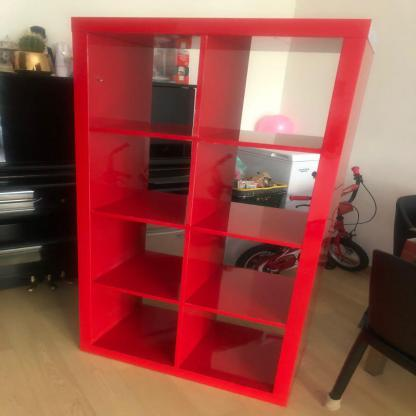lamp: (70, 13, 372, 409)
